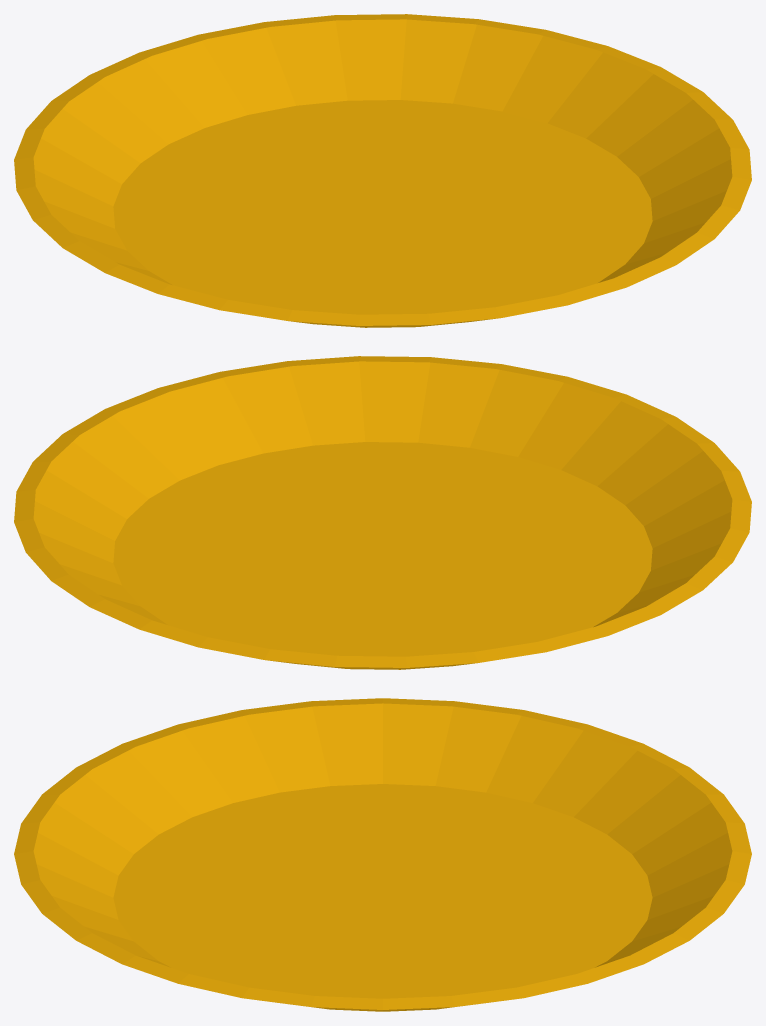
The model's file is plate.fbx.
3 views of the same model, one above another, from view 1: azimuth 30°, elevation 25°; view 2: azimuth 150°, elevation 25°; view 3: azimuth 270°, elevation 25° (orthographic).
Parts seen in each view (by area): view 1: Plate; view 2: Plate; view 3: Plate.
Boxes of the visible parts, x1=… form: Plate: x1=14, y1=14, x2=751, y2=327; Plate: x1=14, y1=356, x2=751, y2=669; Plate: x1=14, y1=698, x2=751, y2=1011.
Bounding box in the file's own units: 134 × 9.38 × 134.
